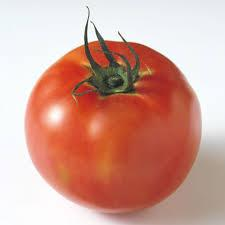tomato: (20, 40, 198, 210)
